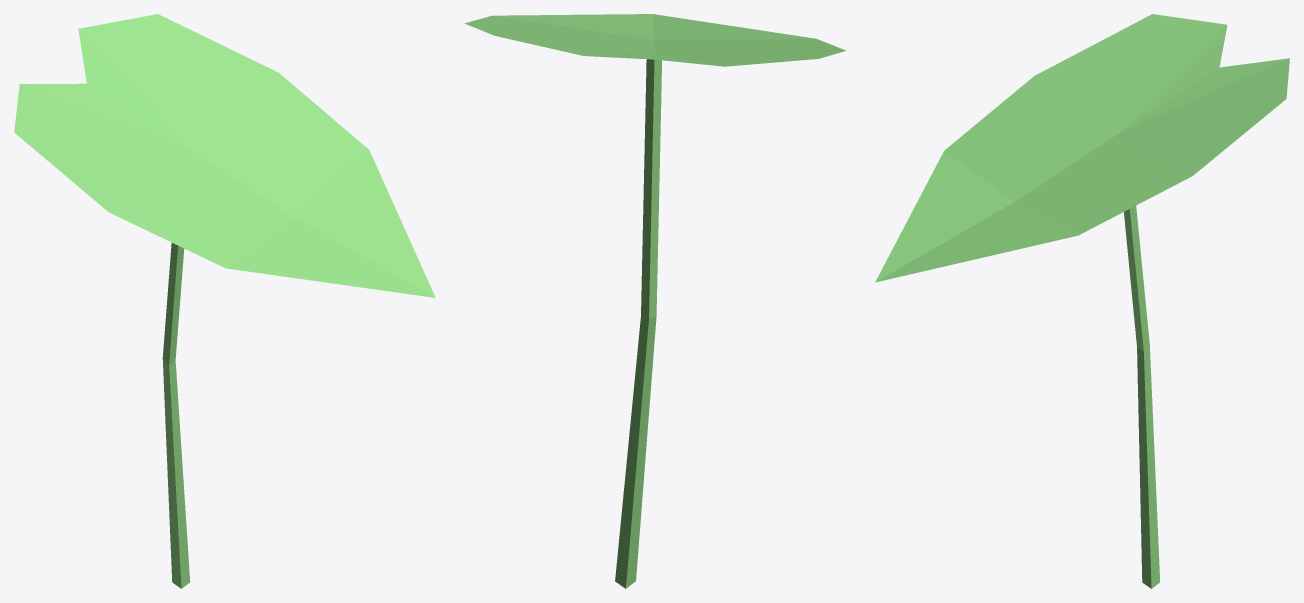
Rendered from Plant_d_OneS_03.fbx.
3 views of the same model, side by side, from view 1: azimuth 30°, elevation 25°; view 2: azimuth 150°, elevation 25°; view 3: azimuth 270°, elevation 25° (orthographic). The views are drawn at different scales.
Visible parts, largest first — view 1: Plant_d_OneS_03; view 2: Plant_d_OneS_03; view 3: Plant_d_OneS_03.
Boxes of the visible parts, x1=… form: Plant_d_OneS_03: x1=14, y1=14, x2=435, y2=588; Plant_d_OneS_03: x1=464, y1=14, x2=845, y2=588; Plant_d_OneS_03: x1=875, y1=14, x2=1289, y2=588.
Bounding box in the file's own units: 47.31 × 72.94 × 53.77.
